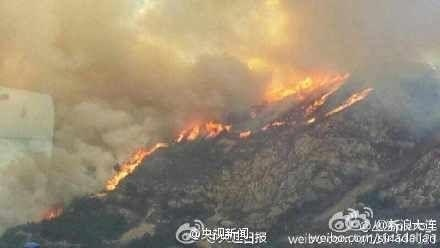fire: (102, 110, 230, 192), (255, 66, 374, 125)
